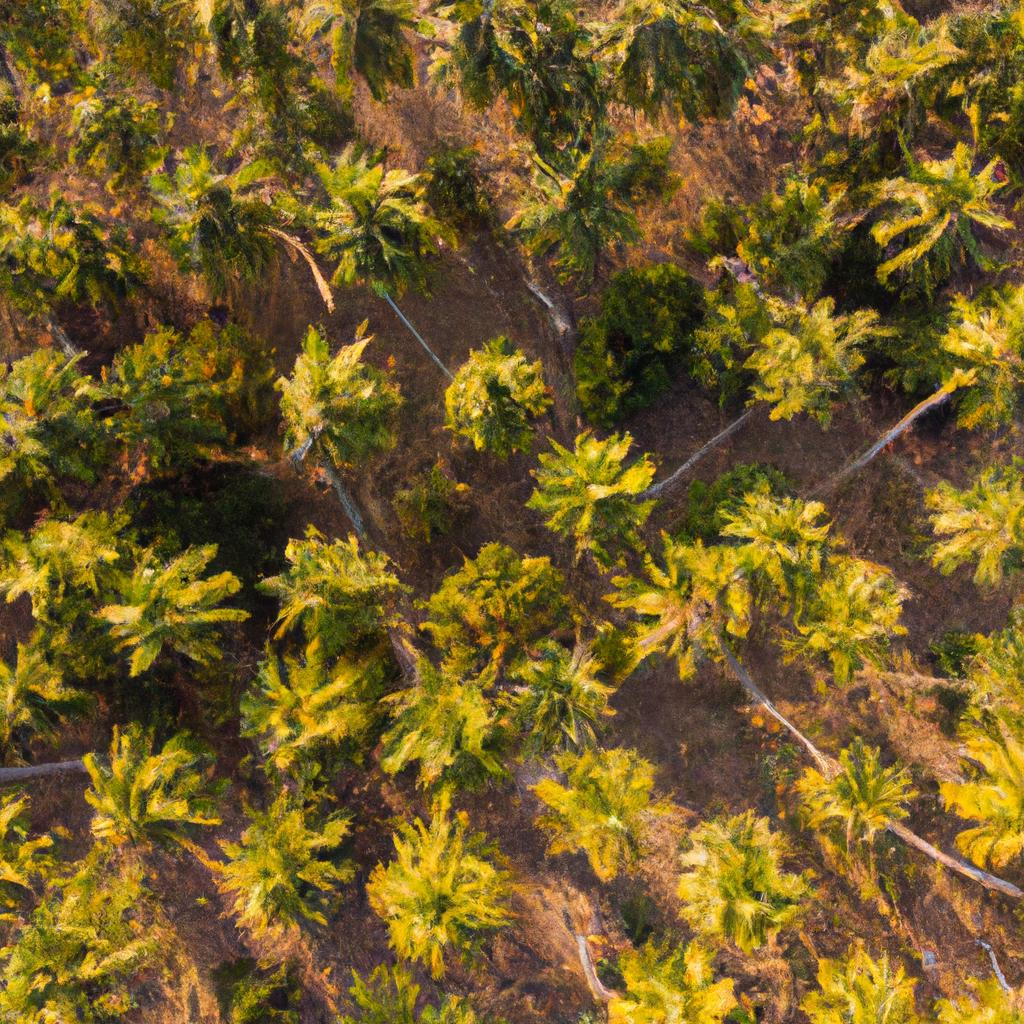coconut_tree: (370, 807, 538, 981), (269, 324, 427, 481), (294, 147, 448, 291), (200, 804, 358, 929), (520, 426, 669, 556), (231, 640, 391, 759)
